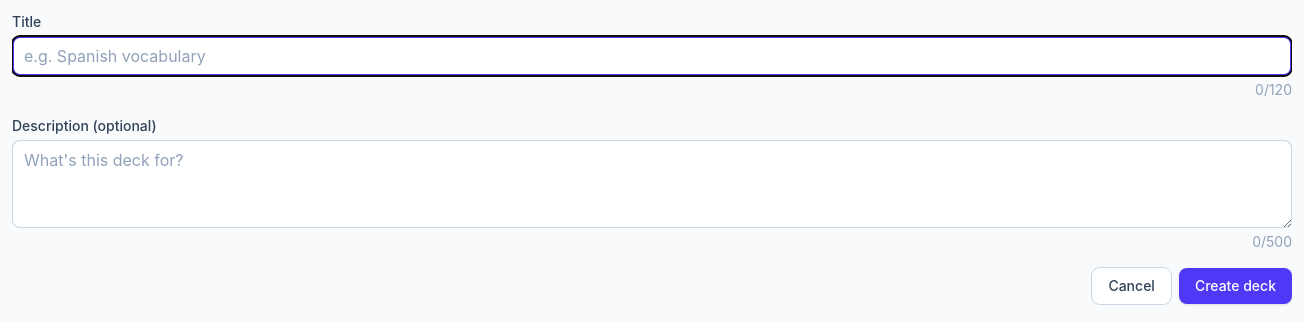
it: DeckForm › is controlled: typing updates the value and the character counter
In the field labelled "Title": (652, 56) [12,36,1292,76], type "Spanish"
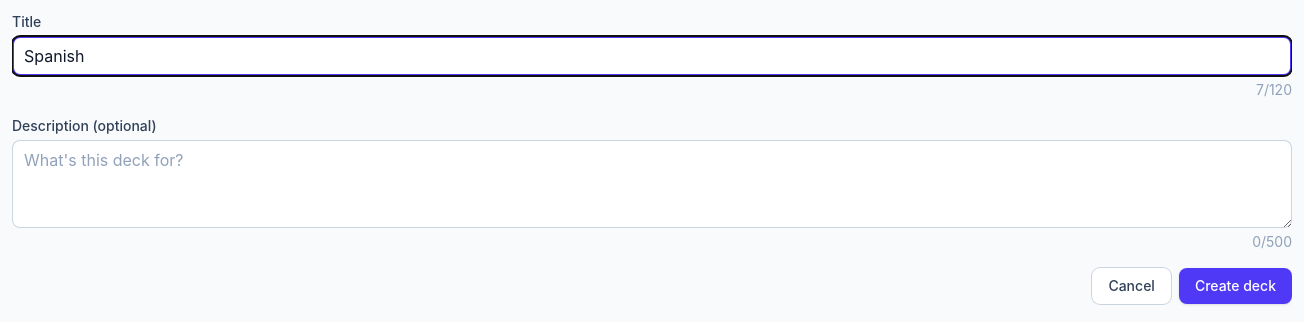
Check: the text "7/120" is shown, box [1256,81,1292,98]
